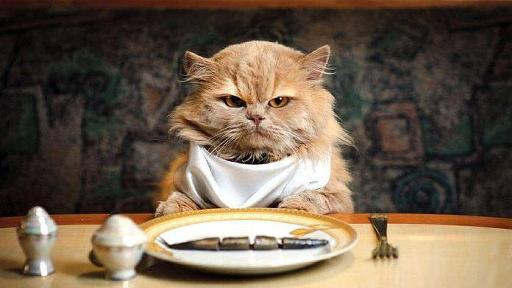cat_eating: (137, 41, 375, 280)
